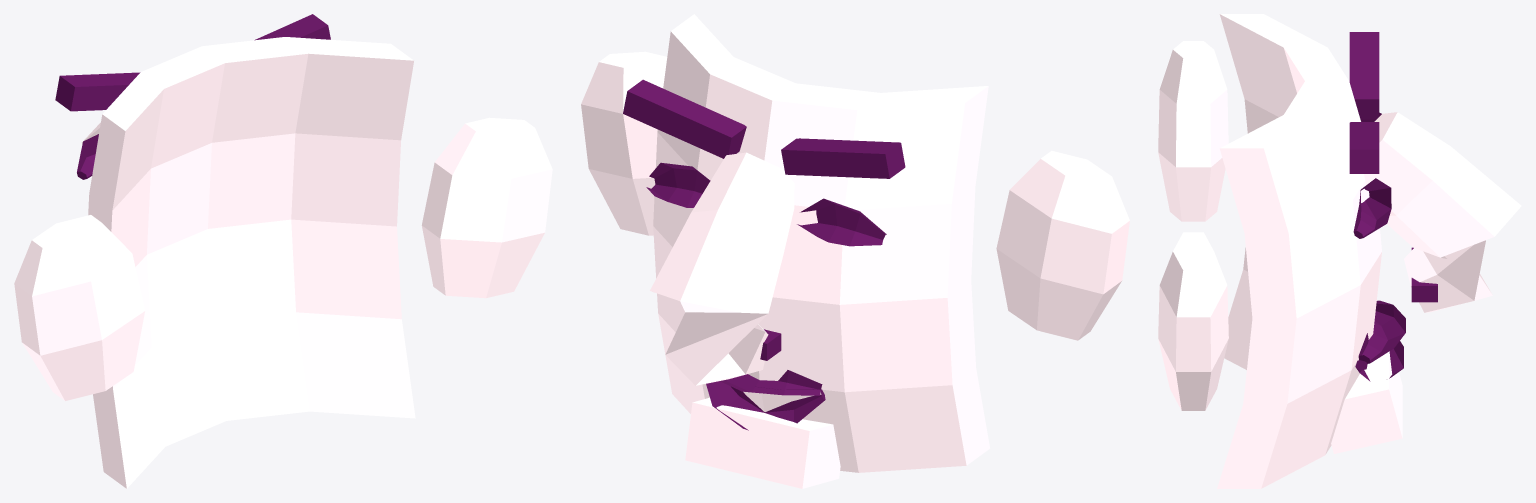
Rendered from Witch_Face_own.gltf.
3 views of the same model, side by side, from view 1: azimuth 30°, elevation 25°; view 2: azimuth 150°, elevation 25°; view 3: azimuth 270°, elevation 25° (orthographic). The views are drawn at different scales.
Visible parts, largest first — view 1: Witch_Face_own; view 2: Witch_Face_own; view 3: Witch_Face_own.
Part boxes in pixels (left/top/right/bottom): Witch_Face_own: left=14, top=14, right=552, bottom=488; Witch_Face_own: left=581, top=14, right=1129, bottom=488; Witch_Face_own: left=1158, top=14, right=1521, bottom=488.
Size of the model in its own units: 0.3895 by 0.2592 by 0.2468.
